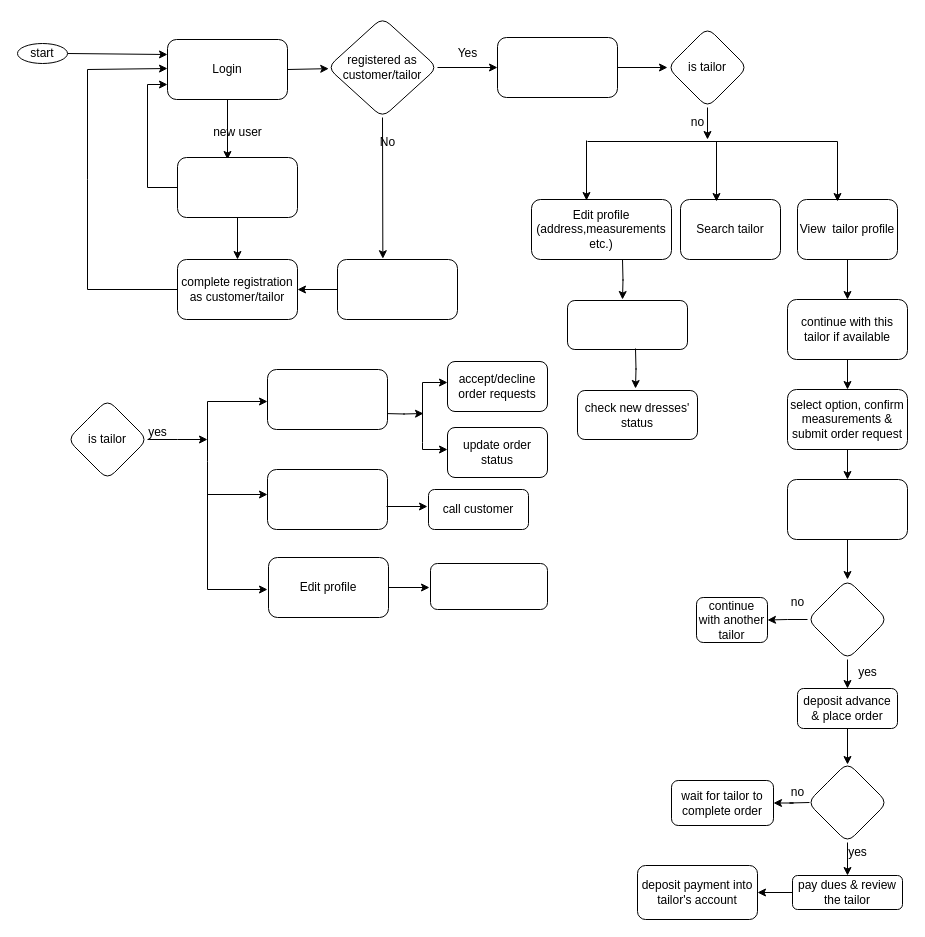
This 925x937 diagram has some shape labels left out. The shapes that lost their labels are listed below. From the top down, each one's box as (x1, y1, x2, y2) in pixels, then its label:
(496, 36, 618, 98): Home
(176, 156, 298, 218): Register as user
(336, 258, 458, 320): Logout
(566, 300, 688, 350): my dresses' orders
(266, 368, 388, 430): Orders
(266, 468, 388, 530): View my customers
(786, 478, 908, 540): send order request to tailor
(430, 562, 548, 610): update address, expertise, availability
(806, 578, 888, 660): request accepted
(806, 762, 888, 842): order completed
